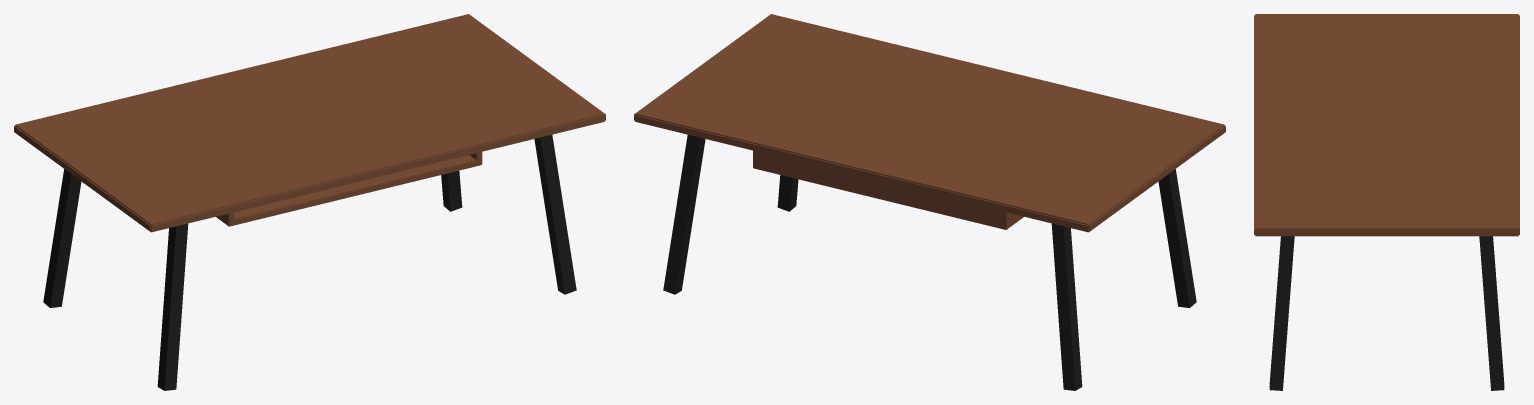
The picture shows the model from 3 angles, left to right: view 1: azimuth 30°, elevation 25°; view 2: azimuth 150°, elevation 25°; view 3: azimuth 270°, elevation 25°; orthographic projection. The views are drawn at different scales.
Parts seen in each view (by area): view 1: ietei-coffee-table; view 2: ietei-coffee-table; view 3: ietei-coffee-table.
Part boxes in pixels (x1,y1,x2,y2): ietei-coffee-table: (14, 14, 605, 390); ietei-coffee-table: (634, 14, 1225, 390); ietei-coffee-table: (1254, 14, 1519, 390).
Size of the model in its own units: 1.15 by 0.4329 by 0.6.
